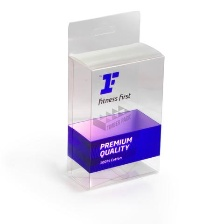plastic_box: (55, 4, 171, 195)
